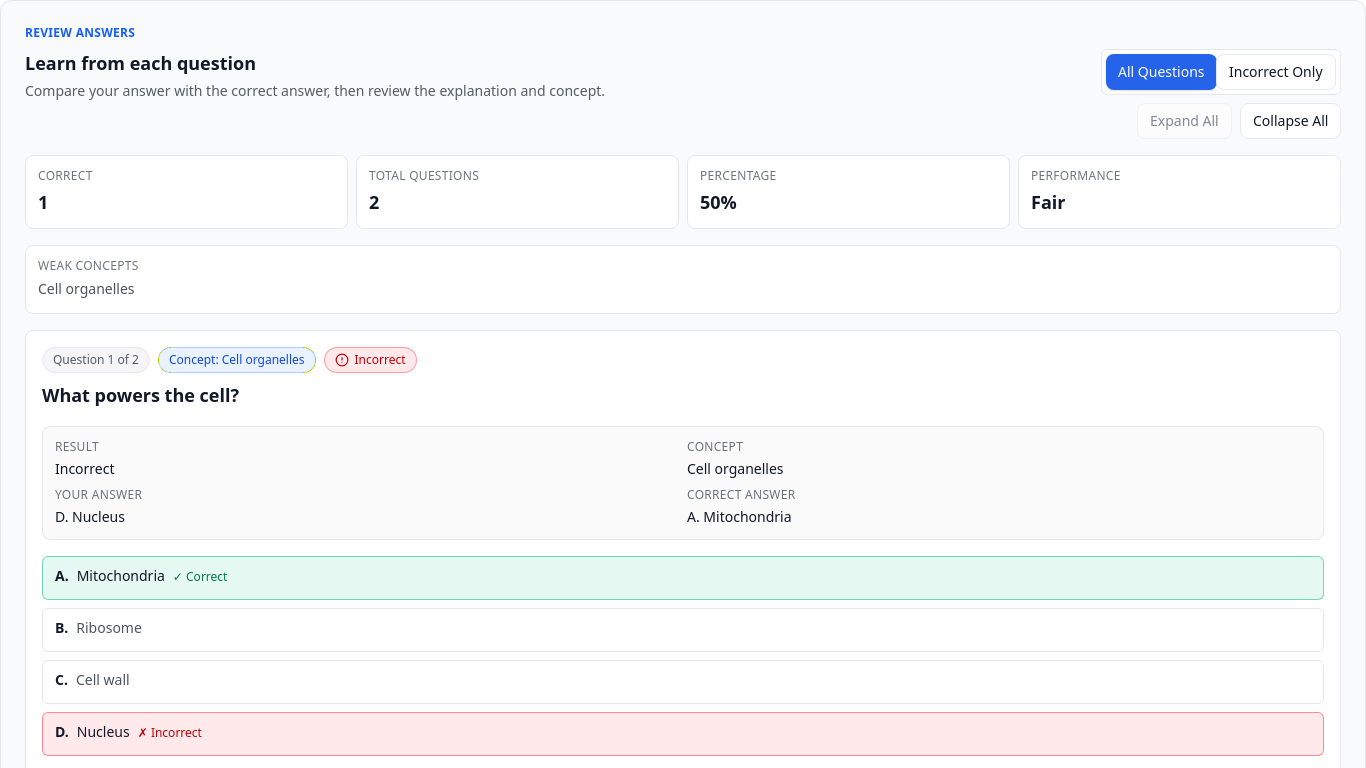
Test: QuizAnswerReview › can focus the review on incorrect answers only
The width and height of the screenshot is (1366, 768).
Click the button "Incorrect Only".
click(1276, 72)  # box [1216, 54, 1336, 90]
(page scrolled)
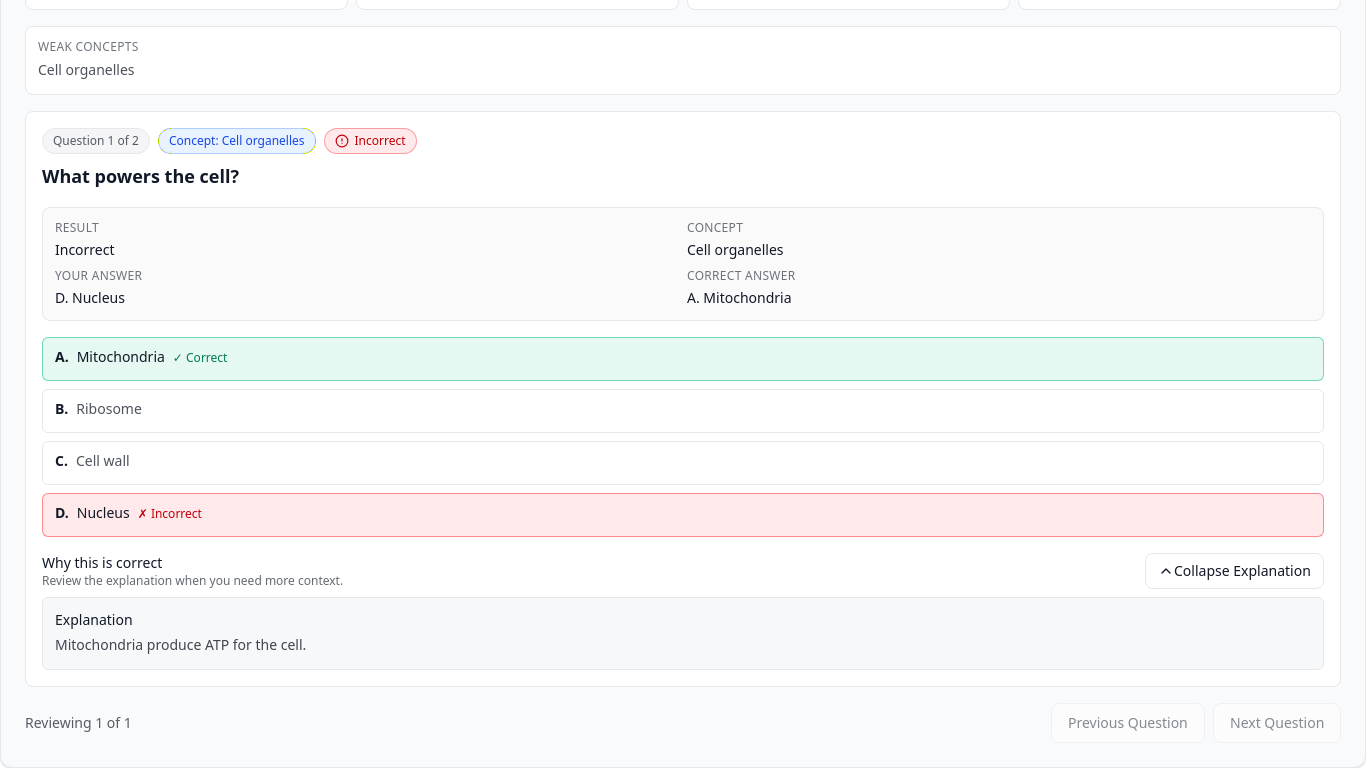
Check: the heading "What powers the cell?" is shown, box [42, 164, 239, 188]
Check: the button "Next Question" is disabled, box [1213, 703, 1341, 743]
